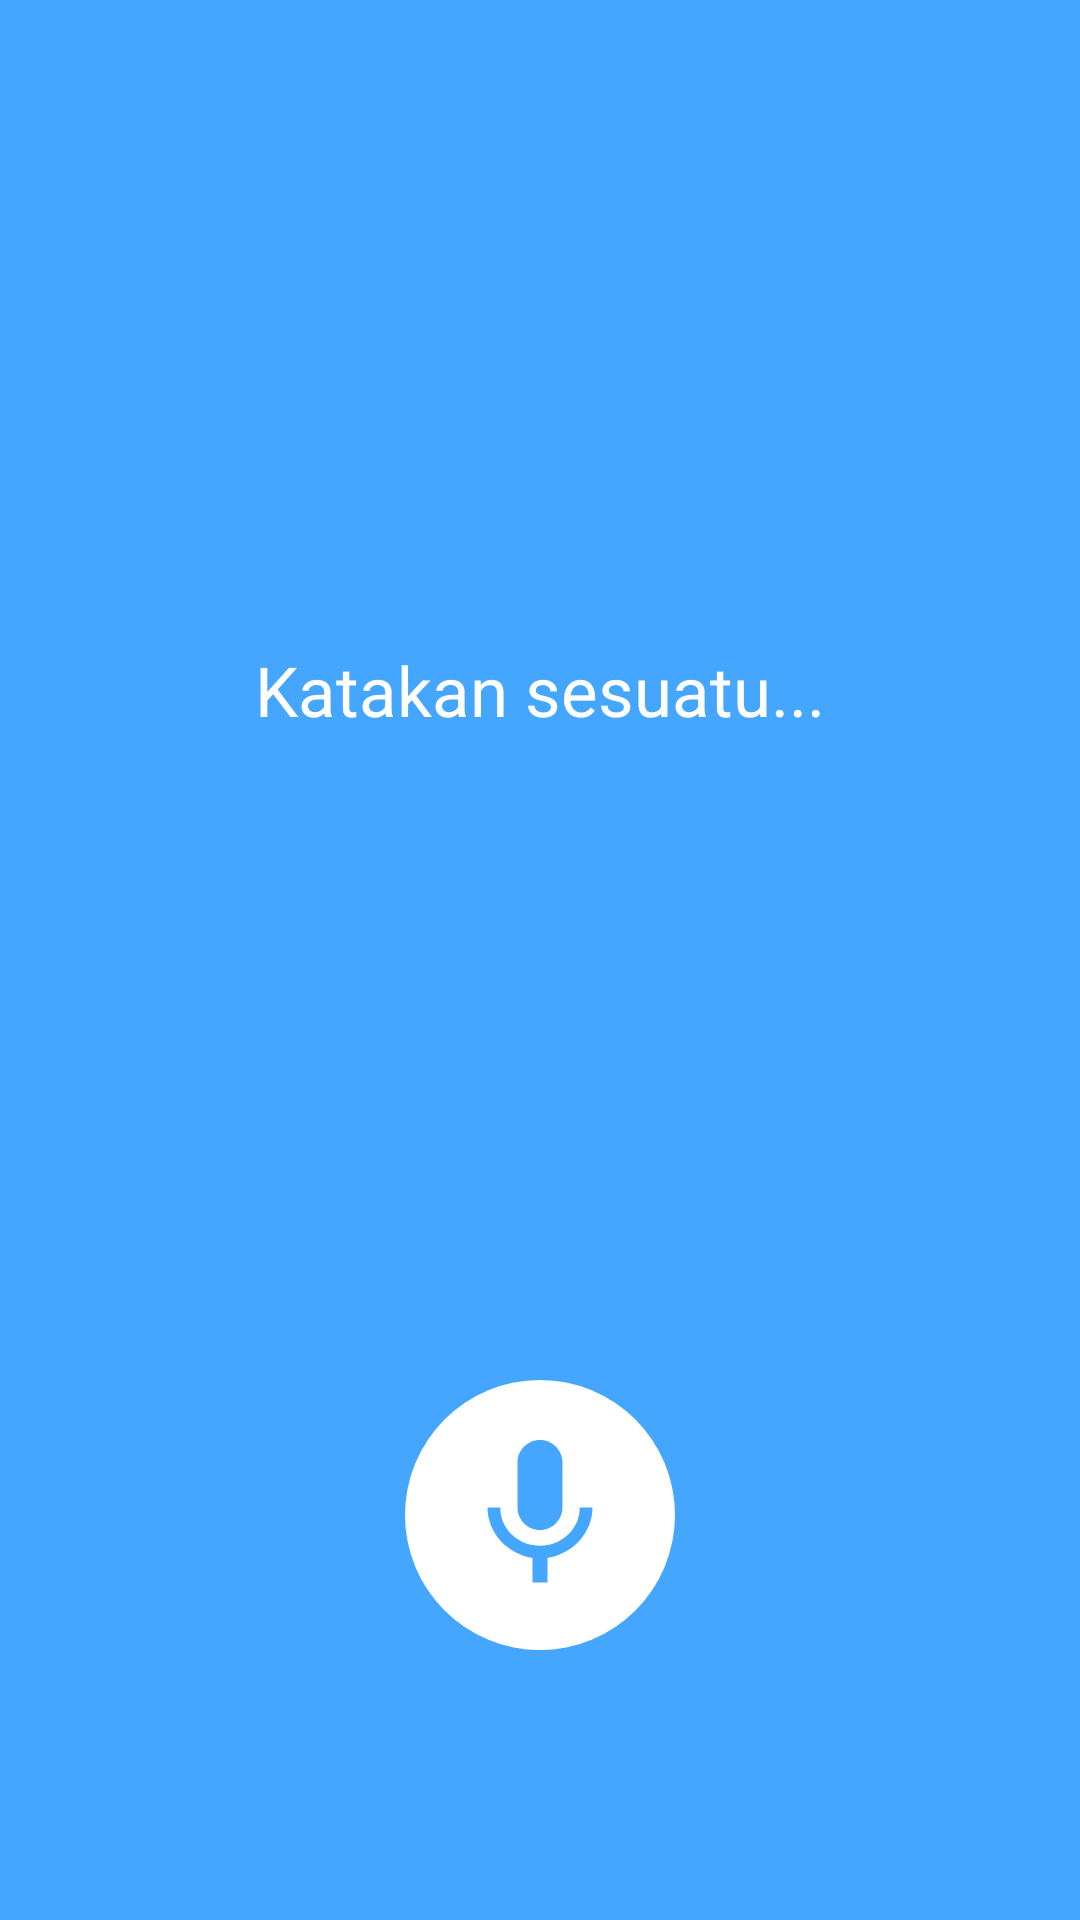

Icons on this 1080 x 1920 Android screen, each with the point to tap as point (x, y):
mic: point (540, 1511)
